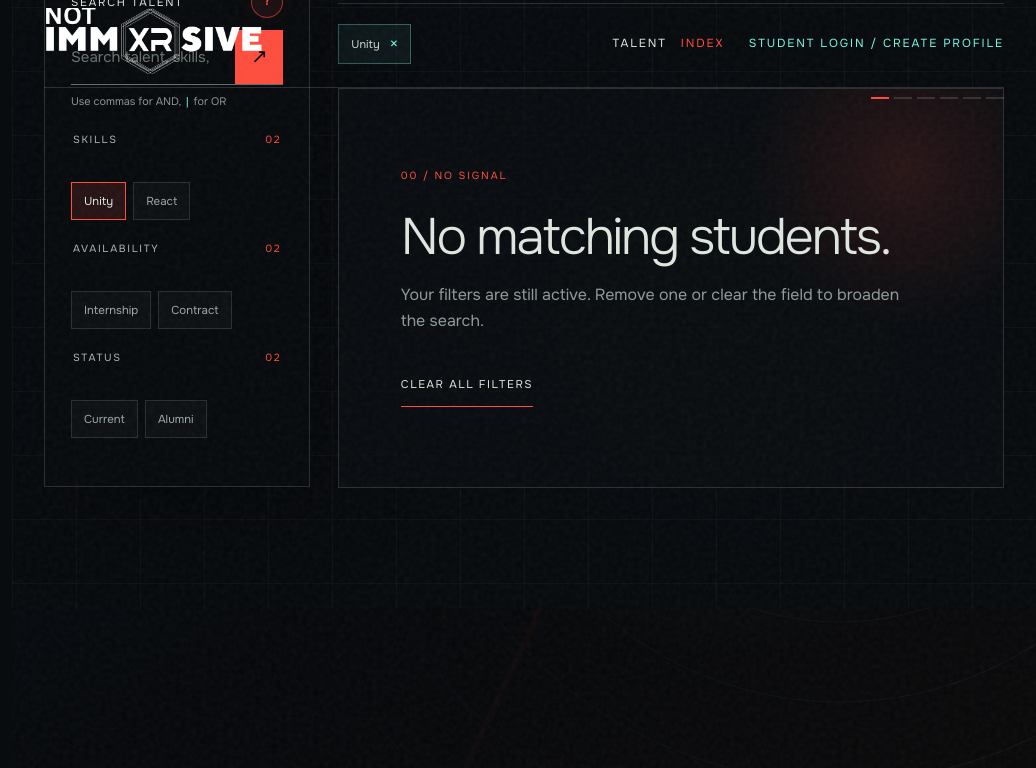
Test: talent directory › shows a deliberate empty state while retaining filters, then clears them
(page scrolled)
Check: the heading "No matching students." is shown, box x1=401 y1=204 x2=921 y2=270
Check: the checkbox labelled "Unity" is checked, box x1=71 y1=183 x2=126 y2=221
Click the button "Clear all filters": (467, 385) x1=401 y1=363 x2=533 y2=407
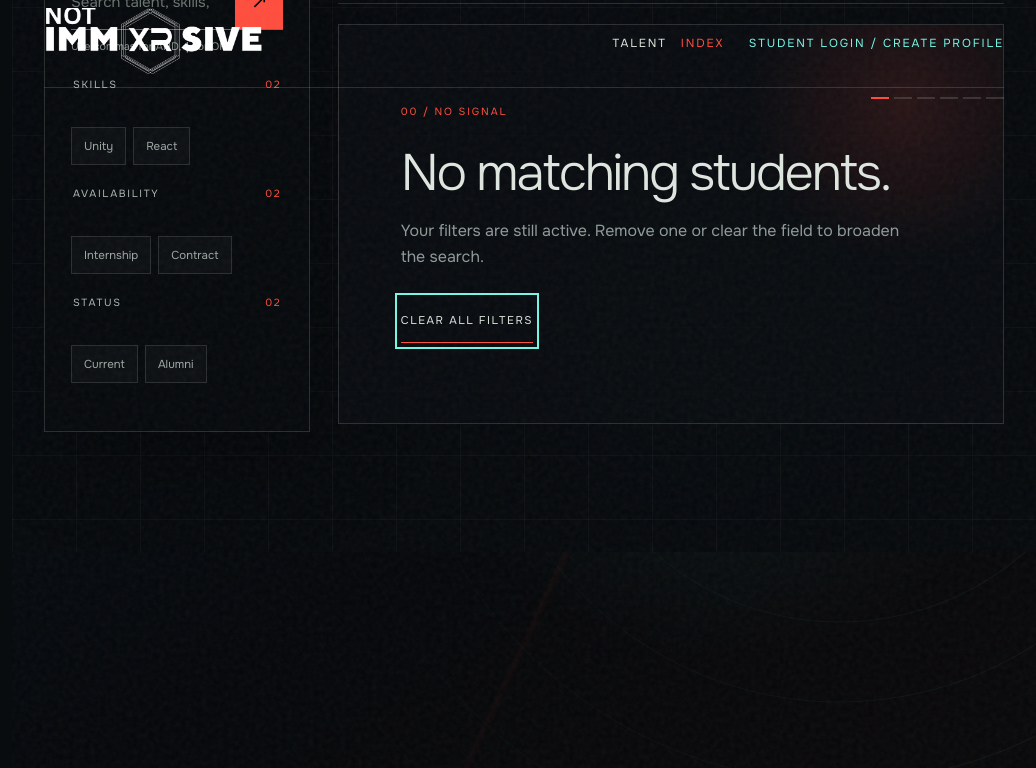
Check: the checkbox labelled "Unity" is not checked, box x1=71 y1=128 x2=126 y2=166
